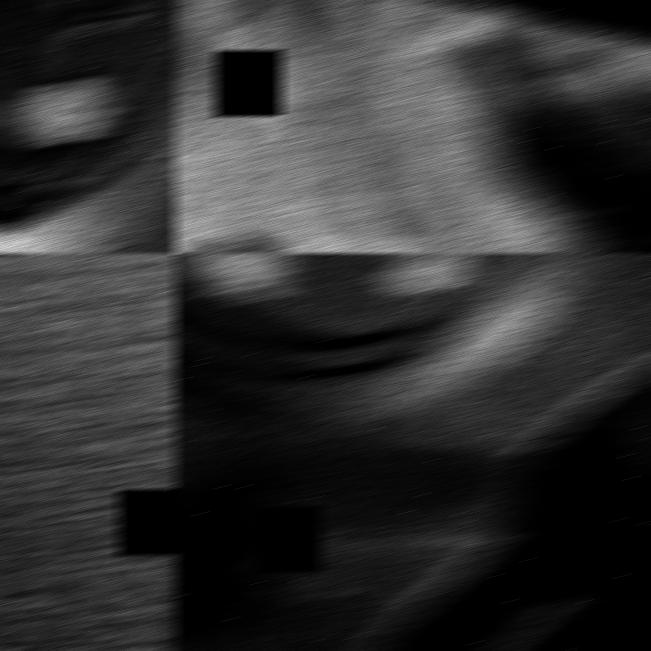Airbag: (172, 253, 651, 650), (172, 0, 651, 252), (0, 253, 177, 650), (0, 0, 177, 252)
